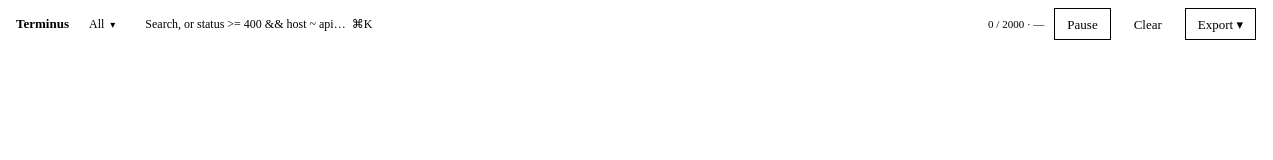
Test: Topbar › shows a filter parse error inline, with its offset, and clears it once fixed
The width and height of the screenshot is (1273, 160).
Type "status >=" into the search field with test id "search" at (375,24), box top-left (135, 9), bottom-right (615, 39)
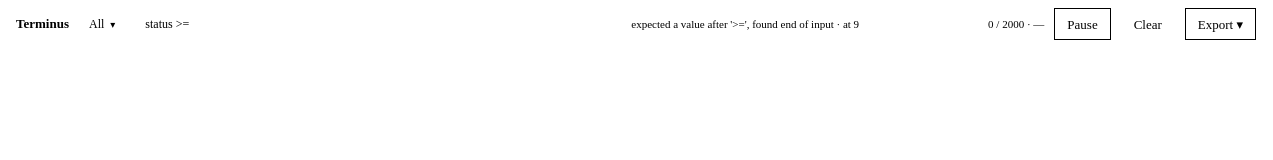
Expected: the message with test id "search-error" reads "expected a value after '>=', found end of input · at 9", top-left (631, 18), bottom-right (859, 30)
Replace the text in the search field with test id "search" with "status >= 500" at (375,24), box top-left (135, 9), bottom-right (615, 39)
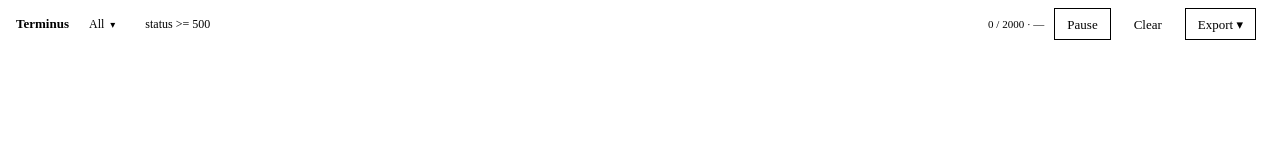
Expected: the message with test id "search-error" is gone
